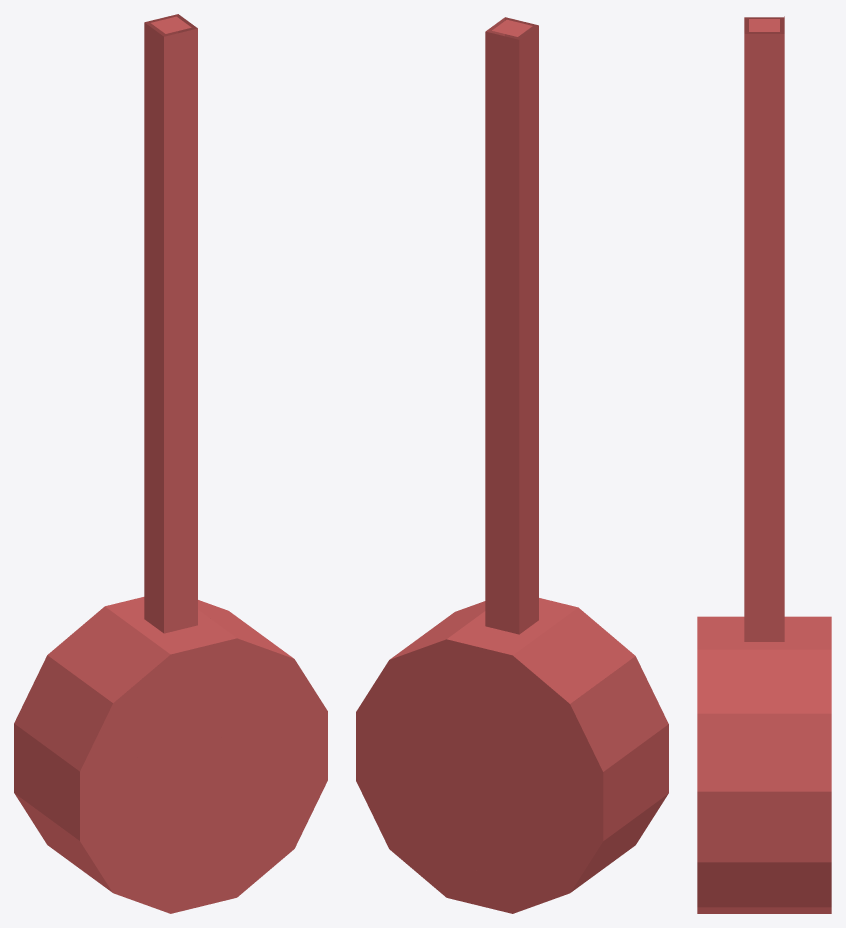
The model's file is ct_mecha_obj03.glb.
3 views of the same model, side by side, from view 1: azimuth 30°, elevation 25°; view 2: azimuth 150°, elevation 25°; view 3: azimuth 270°, elevation 25° (orthographic). The views are drawn at different scales.
Visible parts, largest first — view 1: ct_mecha_obj03_col; view 2: ct_mecha_obj03_col; view 3: ct_mecha_obj03_col.
Boxes of the visible parts, x1,y1,x2,y2 form: ct_mecha_obj03_col: (14,14,327,913); ct_mecha_obj03_col: (356,17,668,913); ct_mecha_obj03_col: (697,16,831,913).
Size of the model in its own units: 0.2826 by 0.9359 by 0.1302.
